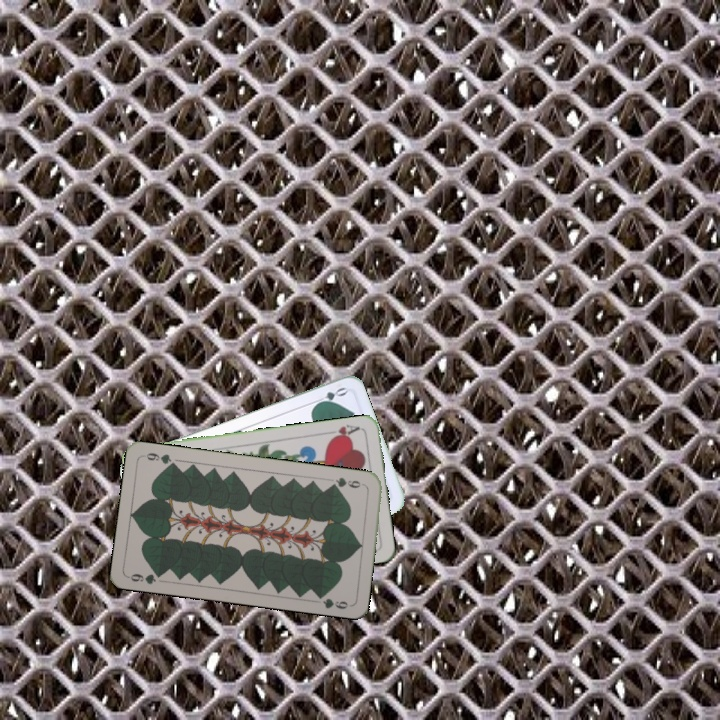G9: (125, 568, 166, 587), (327, 473, 368, 491)
GO: (310, 383, 349, 409)
HA: (326, 420, 363, 443)
